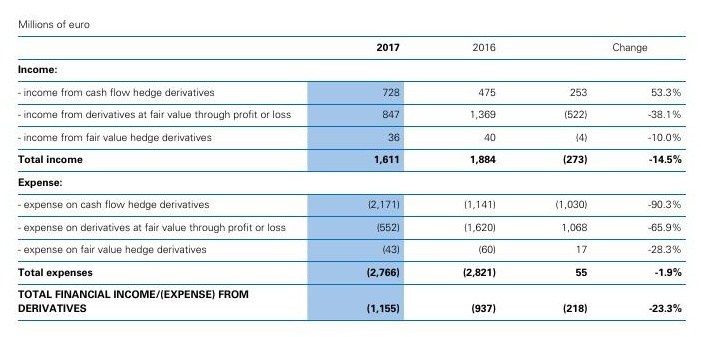table: (0, 0, 701, 337)
